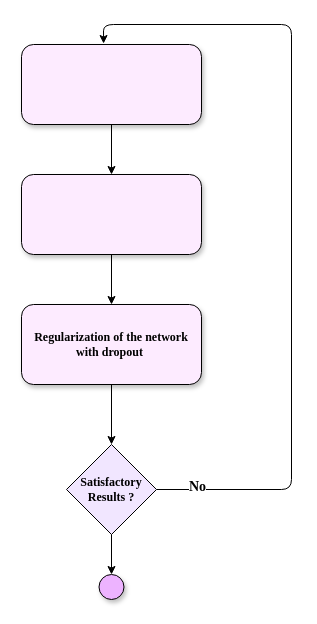
This 317x624 diagram has some shape labels left out. Here are the shapes that lost their labels. From the top down, the centre of each, then its label:
the point at 112,86: Optimization of the number of layers and kernels in the model
the point at 112,216: Optimization of the Batch Size and the Learning rate
